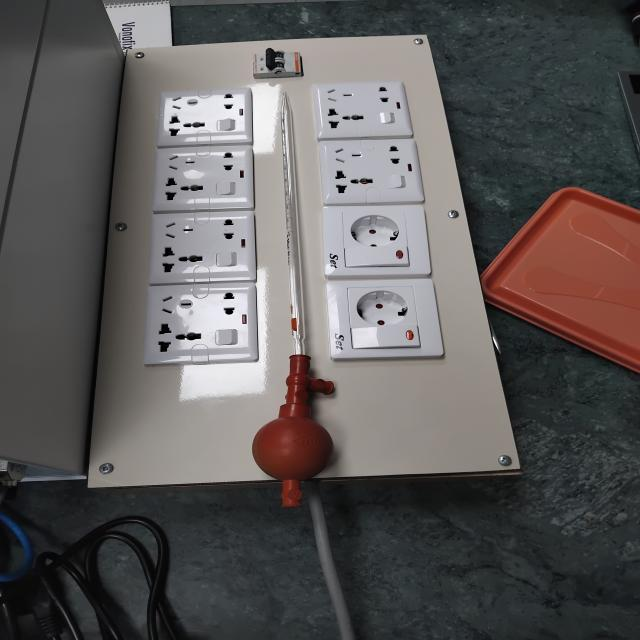Volumetric_Pipet: (221, 63, 372, 526)
